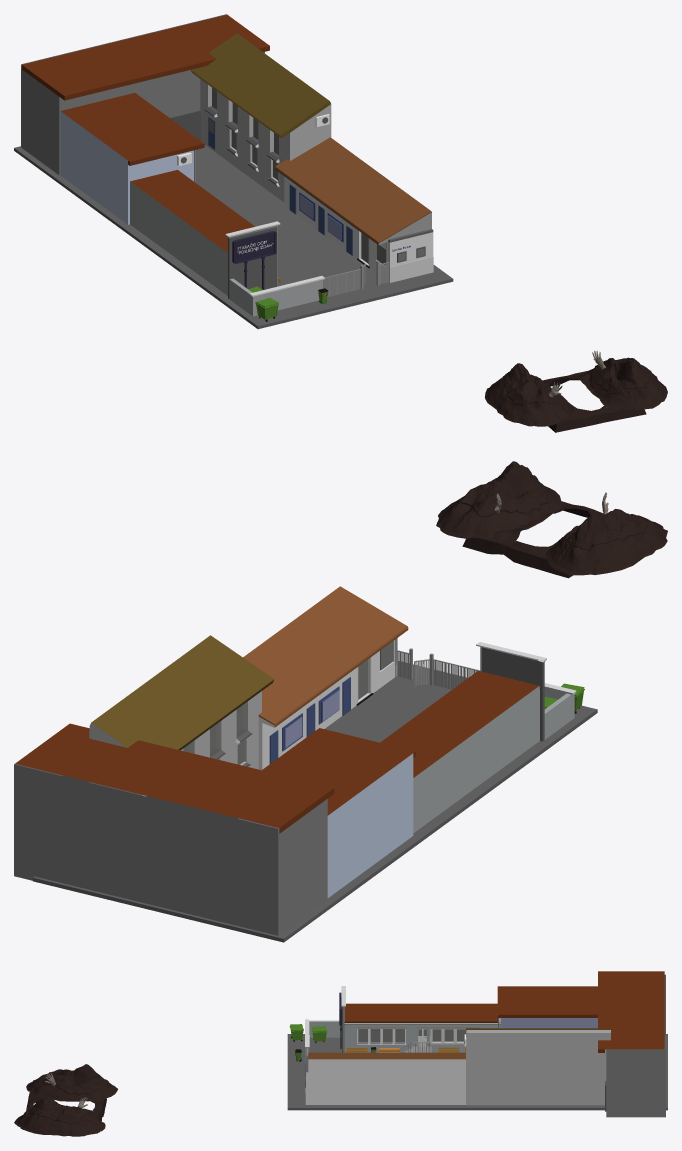
File: kosovska 33.fbx
3 views of the same model, one above another, from view 1: azimuth 30°, elevation 25°; view 2: azimuth 150°, elevation 25°; view 3: azimuth 270°, elevation 25° (orthographic). The views are drawn at different scales.
Visible parts, largest first — view 1: Cube.026, Cube.040, Cube.050, Cube.067, Cube.022, Cube.010, Cube.066, Cube.033, Cube.009, Cube.029, PP_Forest_Mountain_Moss_01.002, PP_Forest_Mountain_Moss_01.001 (+7 smaller); view 2: Cube.022, Cube.040, Cube.050, Cube.067, Cube.026, Cube.010, Cube.009, Cube.029, Cube.033, PP_Forest_Mountain_Moss_01.001, PP_Forest_Mountain_Moss_01.002, Cube.066 (+6 smaller); view 3: Cube.066, Cube.001, Cube.040, Cube.022, Cube.026, Cube.033, Cube.029, PP_Forest_Mountain_Moss_01.001, PP_Forest_Mountain_Moss_01.002, Cube.009, Cube.050, Cube.032 (+7 smaller).
Boxes of the visible parts, x1,y1,x2,y2 form: Cube.026: (14, 145, 453, 329); Cube.040: (21, 14, 269, 100); Cube.050: (274, 137, 431, 244); Cube.067: (191, 33, 330, 138); Cube.022: (21, 14, 264, 175); Cube.010: (60, 111, 193, 224); Cube.066: (200, 79, 331, 202); Cube.033: (61, 93, 204, 165); Cube.009: (130, 181, 227, 295); Cube.029: (130, 170, 254, 252); PP_Forest_Mountain_Moss_01.002: (485, 363, 569, 426); PP_Forest_Mountain_Moss_01.001: (586, 350, 667, 409); Cube.022: (14, 764, 327, 935); Cube.040: (15, 723, 334, 833); Cube.050: (243, 586, 408, 727); Cube.067: (91, 635, 274, 750); Cube.026: (32, 661, 597, 942); Cube.010: (238, 753, 413, 897); Cube.009: (413, 686, 539, 832); Cube.029: (380, 670, 539, 777); Cube.033: (262, 728, 415, 815); PP_Forest_Mountain_Moss_01.001: (436, 461, 561, 538); PP_Forest_Mountain_Moss_01.002: (545, 492, 667, 575); Cube.066: (89, 691, 261, 796); Cube.066: (466, 1030, 610, 1105); Cube.001: (306, 1059, 465, 1104); Cube.040: (598, 971, 664, 1052); Cube.022: (606, 974, 665, 1117); Cube.026: (287, 1034, 667, 1110); Cube.033: (497, 986, 597, 1017); Cube.029: (344, 1003, 500, 1022); PP_Forest_Mountain_Moss_01.001: (14, 1097, 105, 1136); PP_Forest_Mountain_Moss_01.002: (26, 1064, 117, 1101); Cube.009: (344, 1007, 500, 1052); Cube.050: (308, 1052, 465, 1059); Cube.032: (500, 1018, 597, 1028).
Bounding box in the file's own units: 1240 × 521 × 3516.
